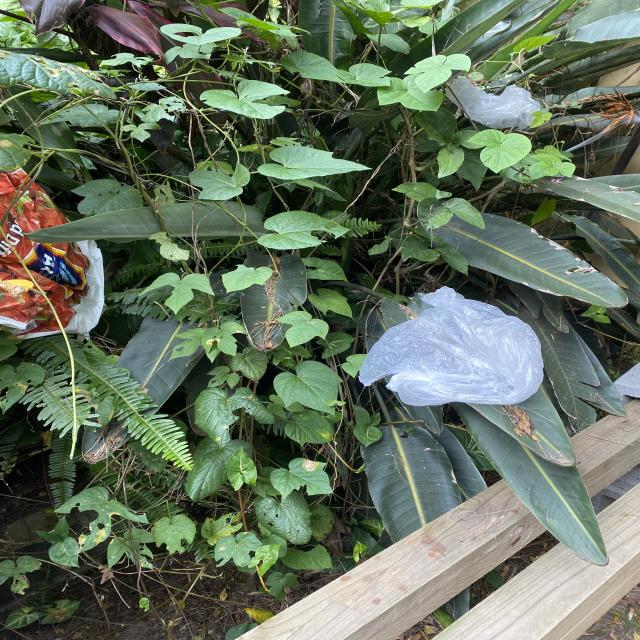bag: (4, 158, 104, 356)
cloth: (356, 289, 554, 416)
